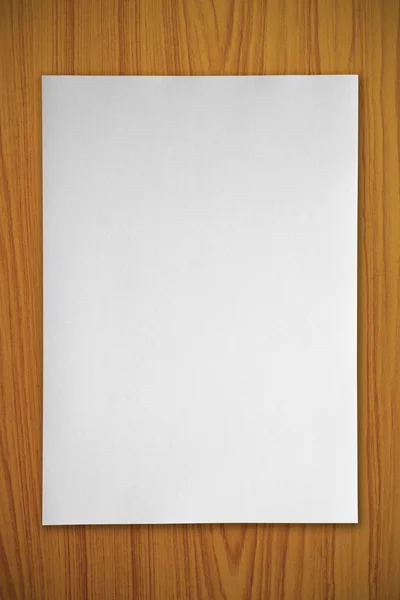page: (43, 79, 356, 522)
